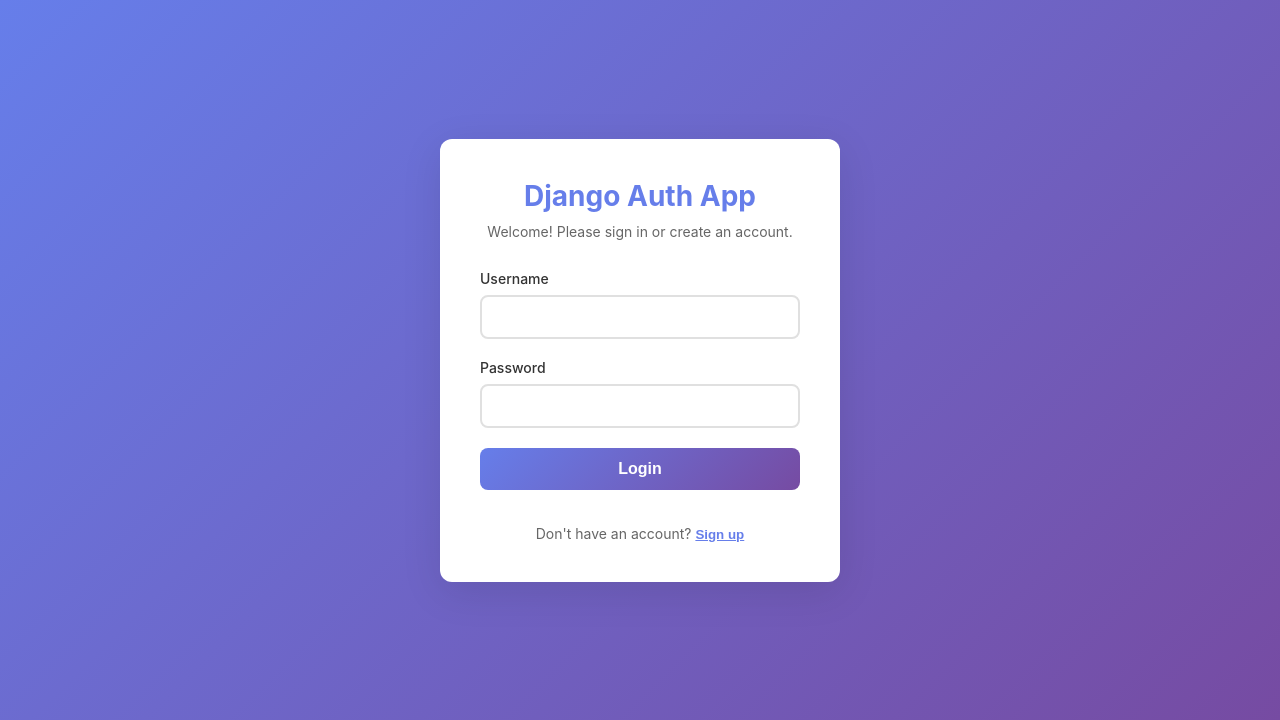
Test: App Component › handles successful login and shows user info
The image size is (1280, 720).
Type "testuser" into the field labelled "Username" at (640, 316), box left=480, top=294, right=800, bottom=338
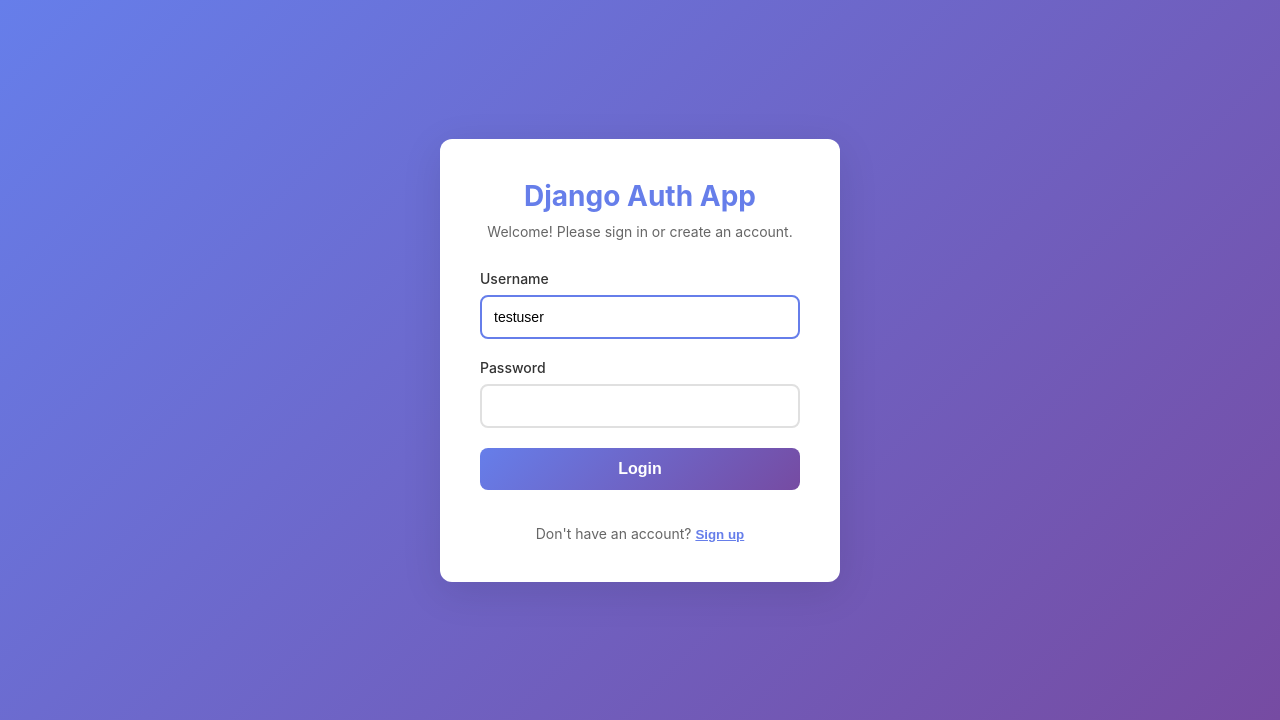
Type "testpass123" into the password field labelled "Password" at (640, 406), box left=480, top=384, right=800, bottom=428
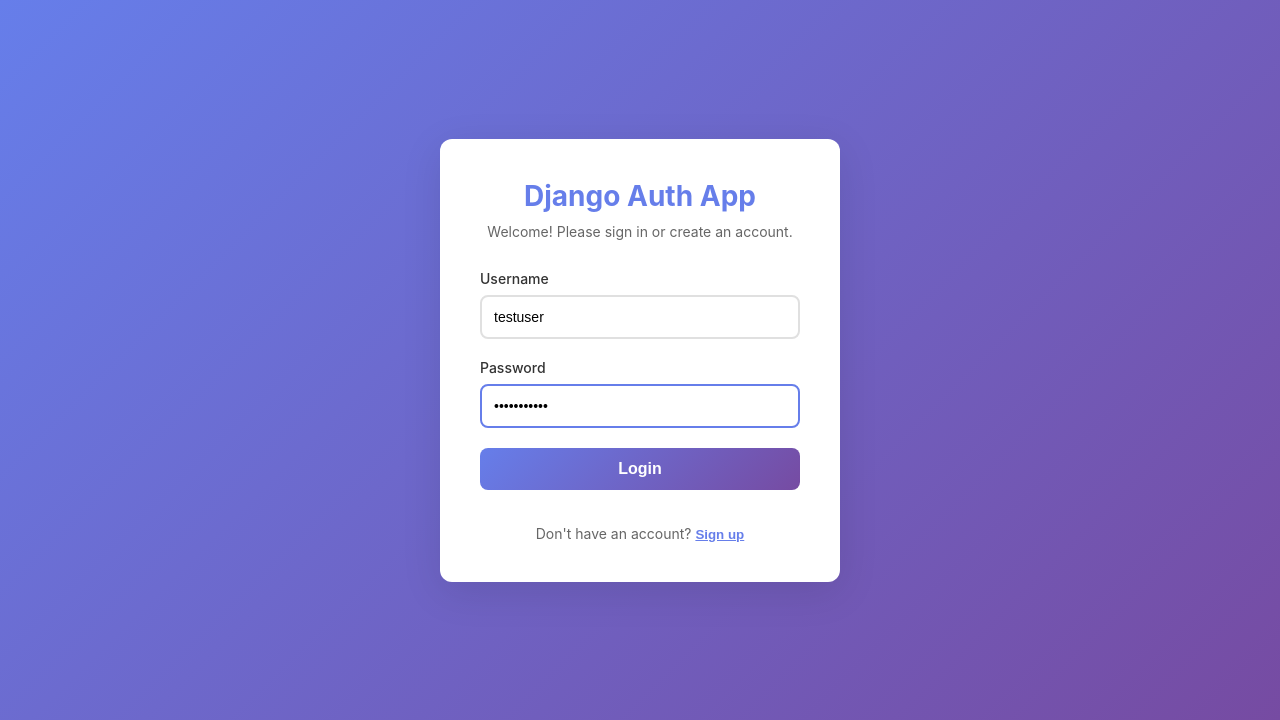
Click the button "Login" at (640, 468), box left=480, top=448, right=800, bottom=490
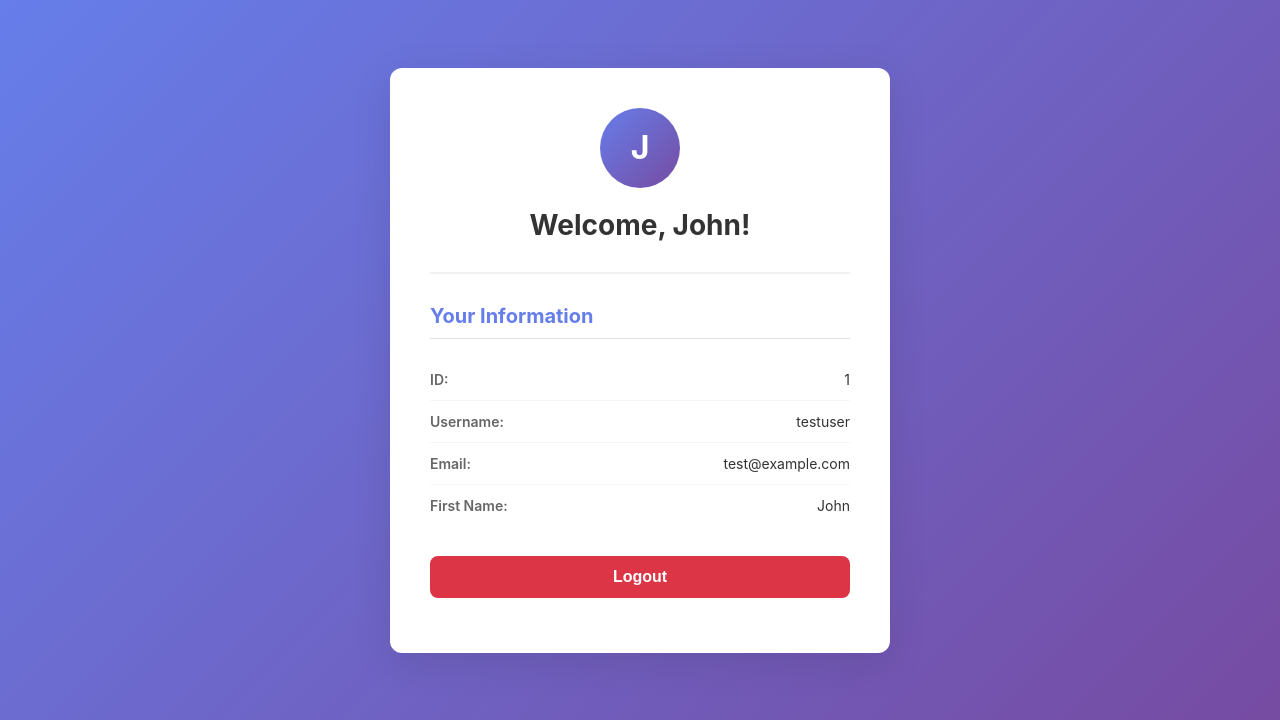
Now the heading "Welcome, John!" is shown, box left=530, top=208, right=750, bottom=242
